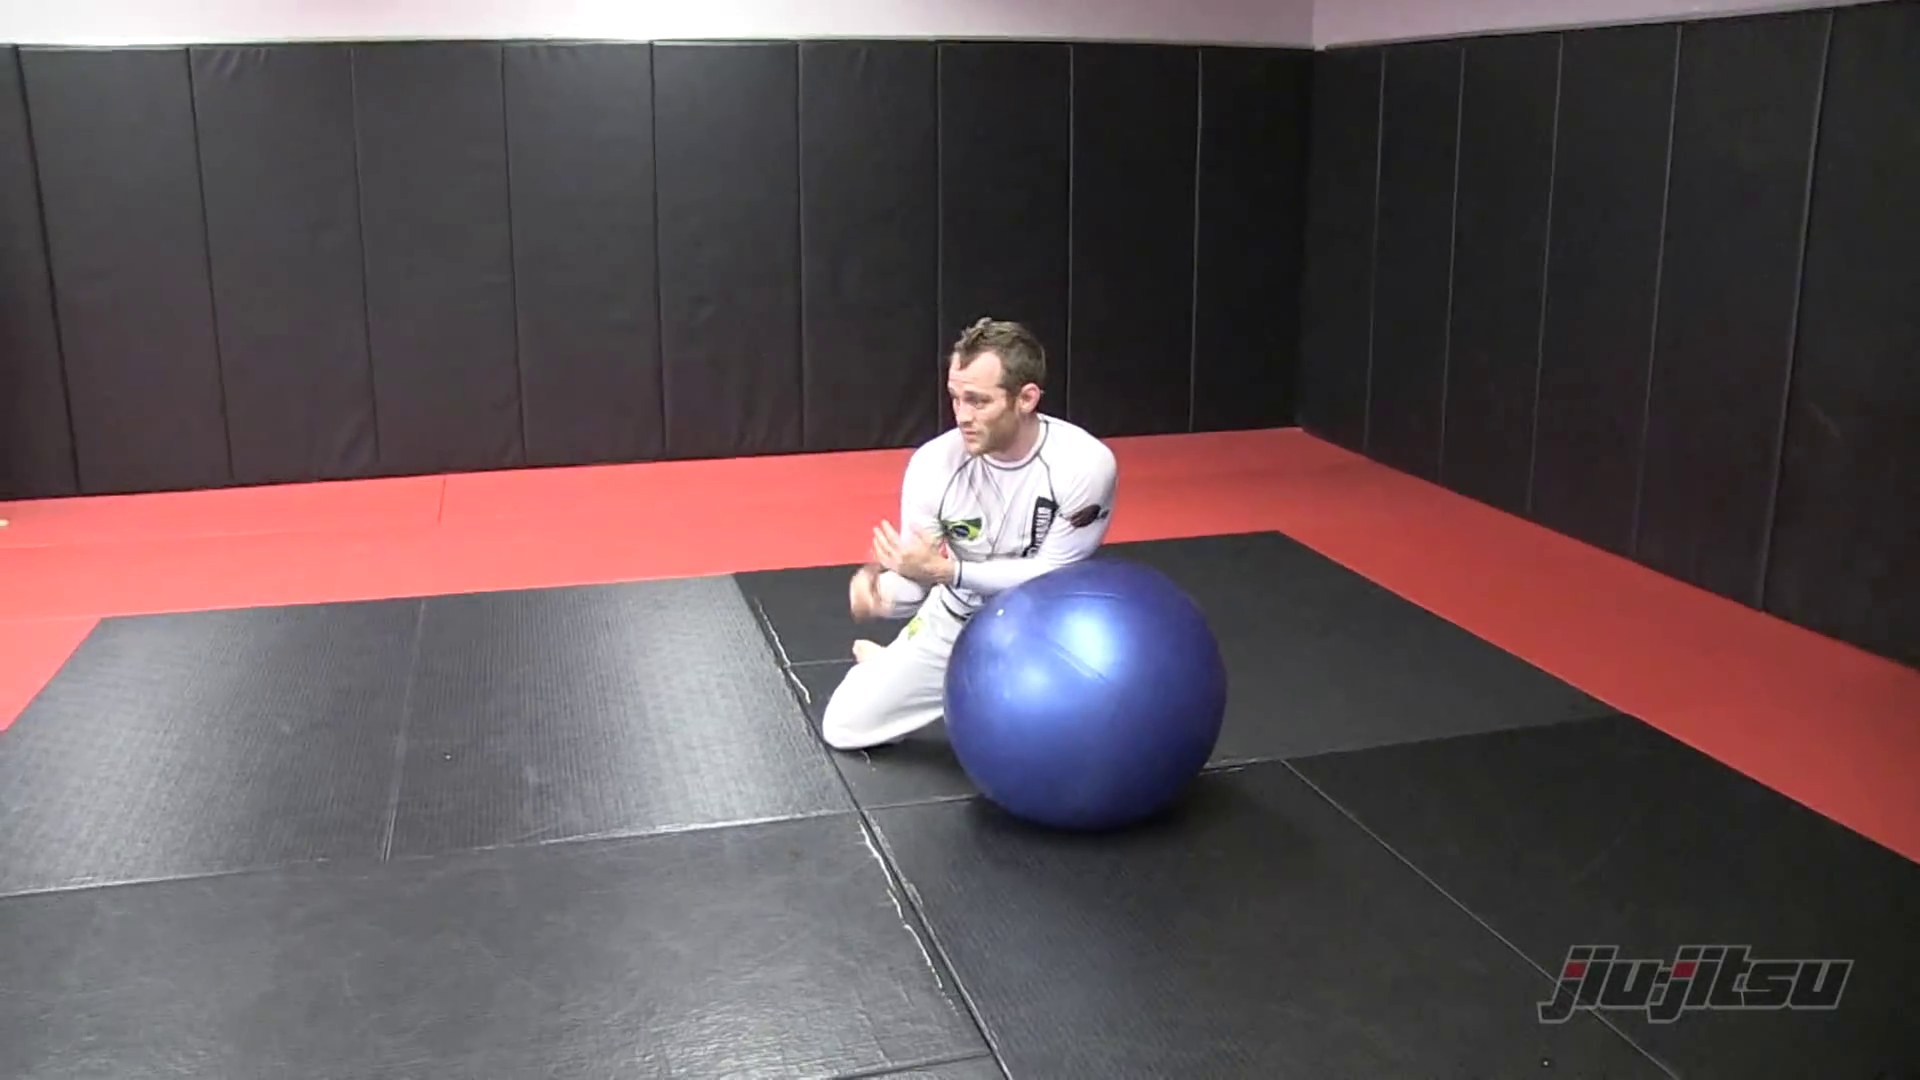yogaball: (927, 551, 1249, 843)
